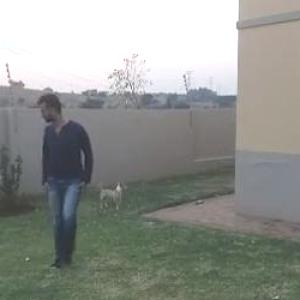follow: (40, 88, 99, 268)
